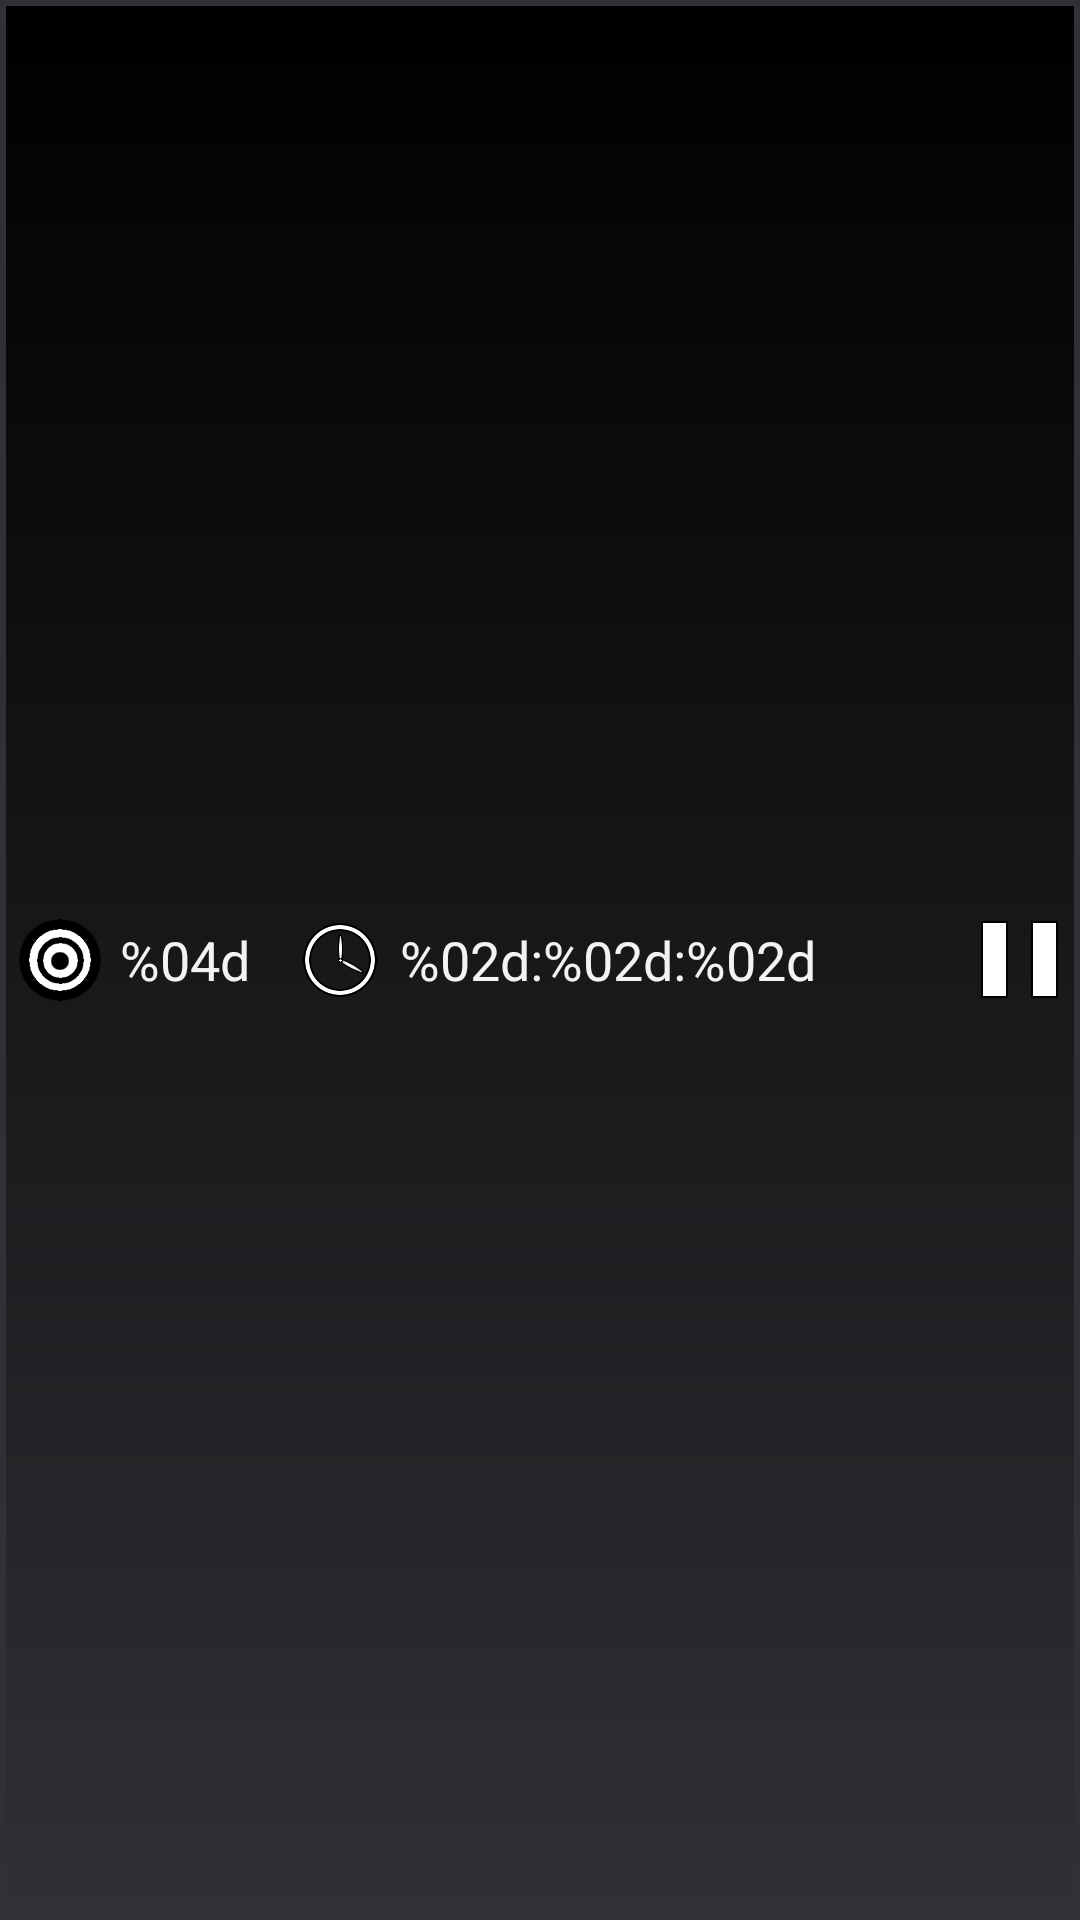

Icon bounding boxes for this 1080*1920 phone screenshot, format (x1, y1, x2, y2):
Click count image: (19, 919, 101, 1001)
Elapsed time image: (303, 923, 377, 997)
Pause image: (981, 921, 1058, 998)
